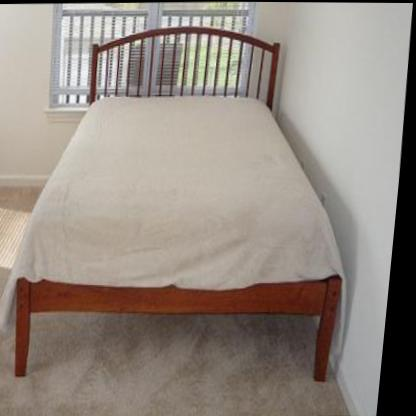Bed: (8, 21, 370, 383)
